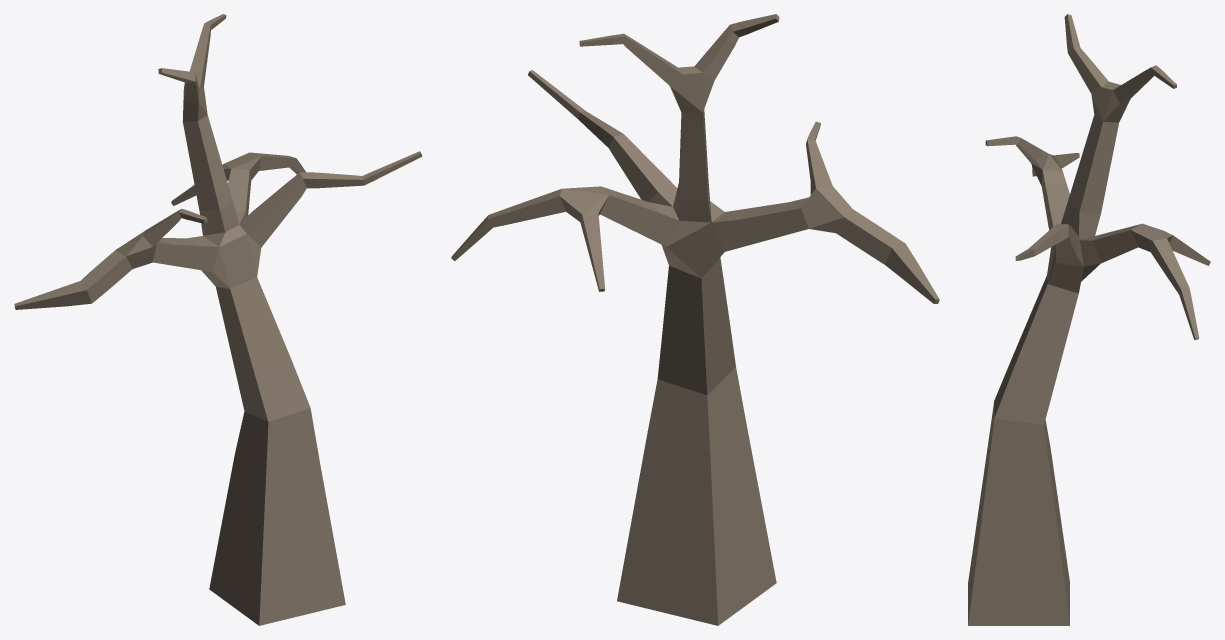
File: Baum1.fbx
The picture shows the model from 3 angles, left to right: view 1: azimuth 30°, elevation 25°; view 2: azimuth 150°, elevation 25°; view 3: azimuth 270°, elevation 25°; orthographic projection. The views are drawn at different scales.
Visible parts, largest first — view 1: Plane; view 2: Plane; view 3: Plane.
Boxes of the visible parts, bbox=[...] form: Plane: bbox=[14, 14, 422, 625]; Plane: bbox=[451, 14, 939, 625]; Plane: bbox=[968, 14, 1210, 625].
Bounding box in the file's own units: 219 × 295 × 119.
